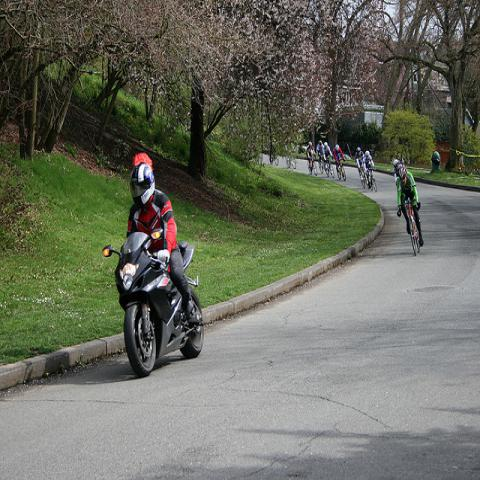motorcycle: (102, 226, 207, 379)
